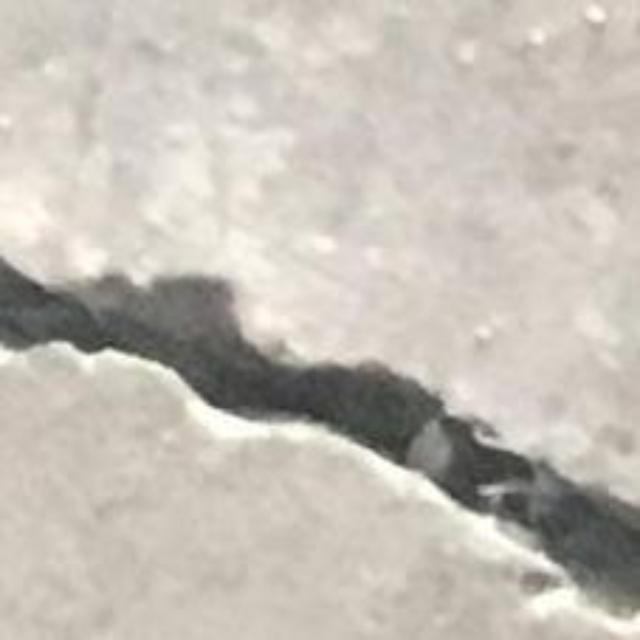crack: (0, 257, 639, 614)
